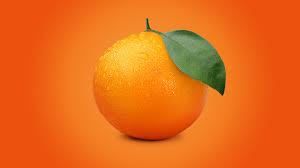orange: (93, 30, 210, 142)
